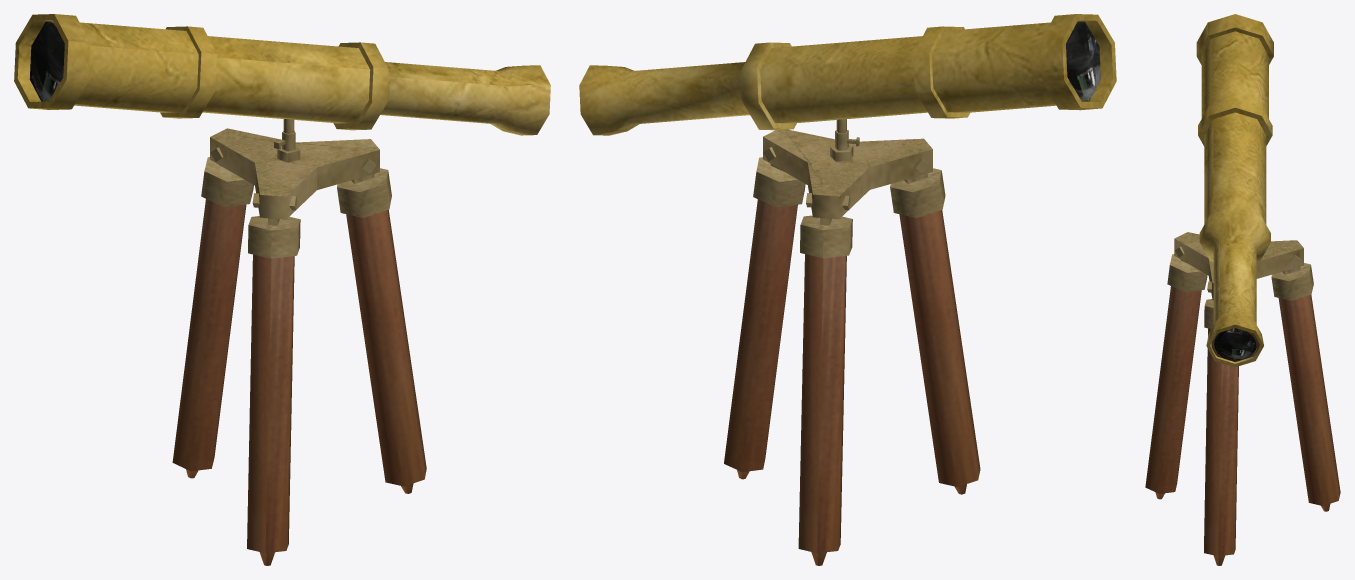
Rendered from BarTableChairs.fbx.
The picture shows the model from 3 angles, left to right: view 1: azimuth 30°, elevation 25°; view 2: azimuth 150°, elevation 25°; view 3: azimuth 270°, elevation 25°; orthographic projection. The views are drawn at different scales.
Visible parts, largest first — view 1: PreservedOldTelescope; view 2: PreservedOldTelescope; view 3: PreservedOldTelescope.
Boxes of the visible parts, x1,y1,x2,y2 form: PreservedOldTelescope: (14, 14, 550, 565); PreservedOldTelescope: (579, 14, 1116, 565); PreservedOldTelescope: (1145, 14, 1340, 565).
Bounding box in the file's own units: 1.18 × 1.22 × 0.5121.
Materials: 1 (1 with a texture image).
